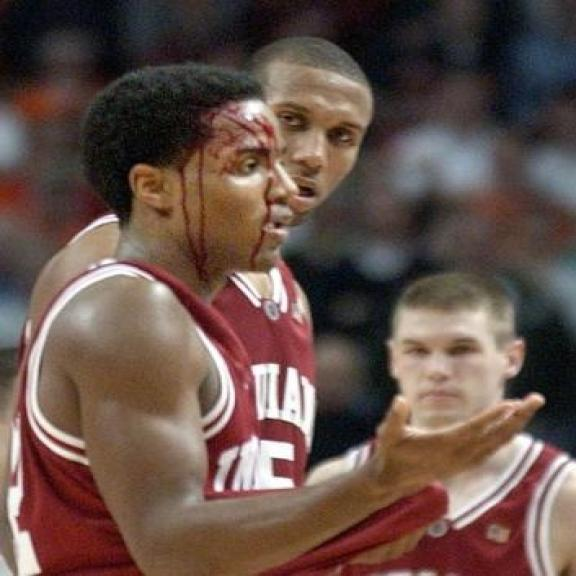face: (138, 86, 298, 293), (386, 300, 532, 437), (262, 62, 374, 226)
